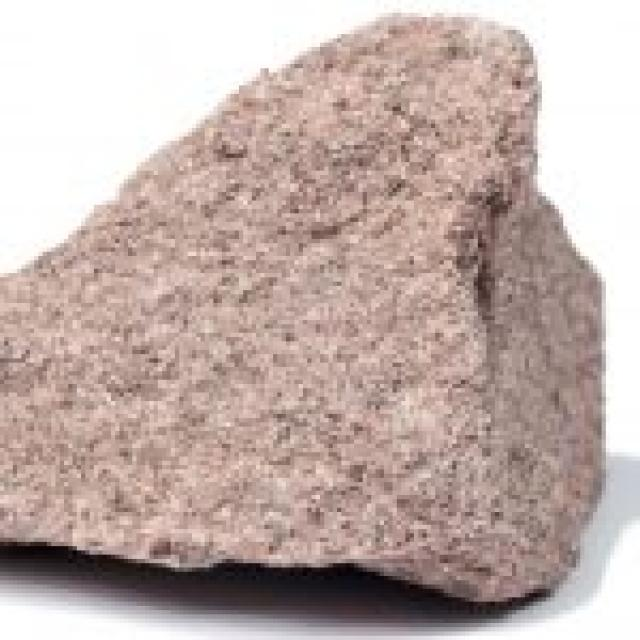Metamorphic: (4, 4, 640, 627)
